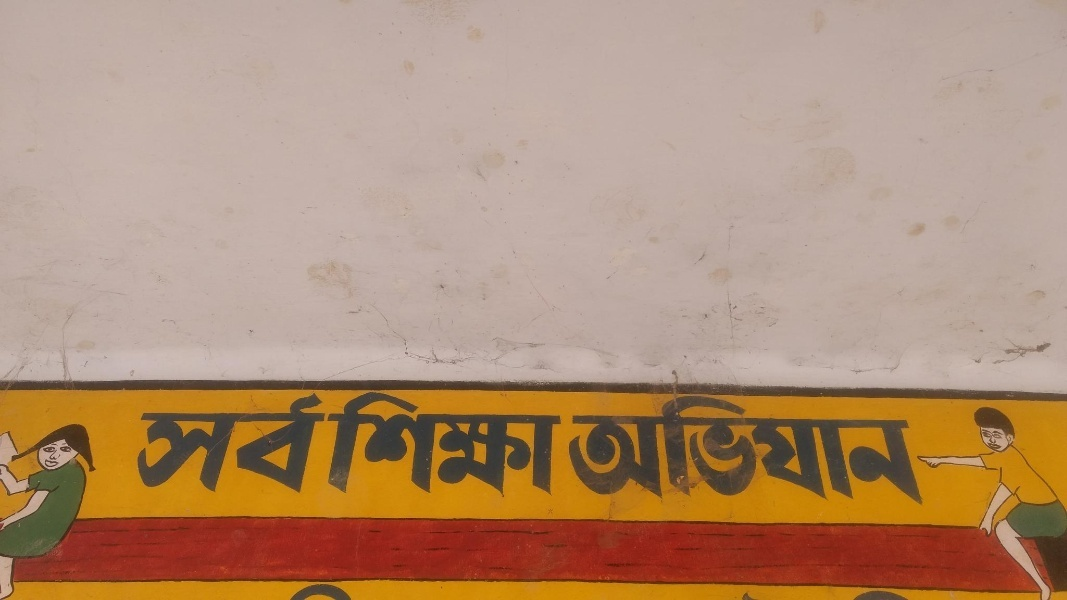text: (577, 393, 592, 506), (593, 393, 608, 506), (609, 393, 624, 506), (625, 393, 640, 506), (641, 393, 656, 506), (657, 393, 672, 506), (673, 393, 688, 506), (689, 393, 704, 506), (705, 393, 720, 506), (721, 393, 736, 506), (737, 393, 752, 506), (753, 393, 768, 506), (769, 393, 784, 506), (785, 393, 800, 506), (801, 393, 816, 506), (817, 393, 832, 506), (833, 393, 848, 506), (849, 393, 864, 506), (865, 393, 880, 506), (881, 393, 896, 506), (897, 393, 912, 506), (337, 392, 352, 499), (353, 392, 368, 499), (369, 392, 384, 499), (385, 392, 400, 499), (401, 392, 416, 499), (417, 392, 432, 499), (433, 392, 448, 499), (449, 392, 464, 499), (465, 392, 480, 499), (481, 392, 496, 499), (497, 392, 512, 499), (513, 392, 528, 499), (529, 392, 544, 499), (545, 392, 560, 499), (145, 391, 160, 496), (161, 391, 176, 496), (177, 391, 192, 496), (193, 391, 208, 496), (209, 391, 224, 496), (225, 391, 240, 496), (241, 391, 256, 496), (257, 391, 272, 496), (273, 391, 288, 496), (289, 391, 304, 496), (305, 391, 320, 496), (913, 393, 924, 506), (134, 391, 144, 496), (569, 393, 576, 506), (321, 391, 328, 496), (330, 392, 336, 499), (561, 392, 564, 499)
